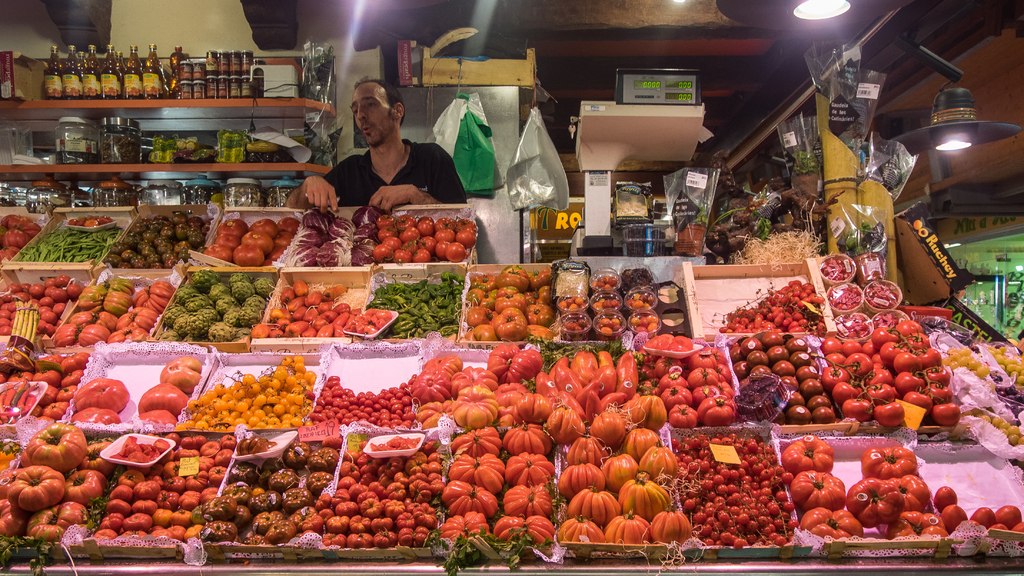Person: (286, 74, 467, 215)
